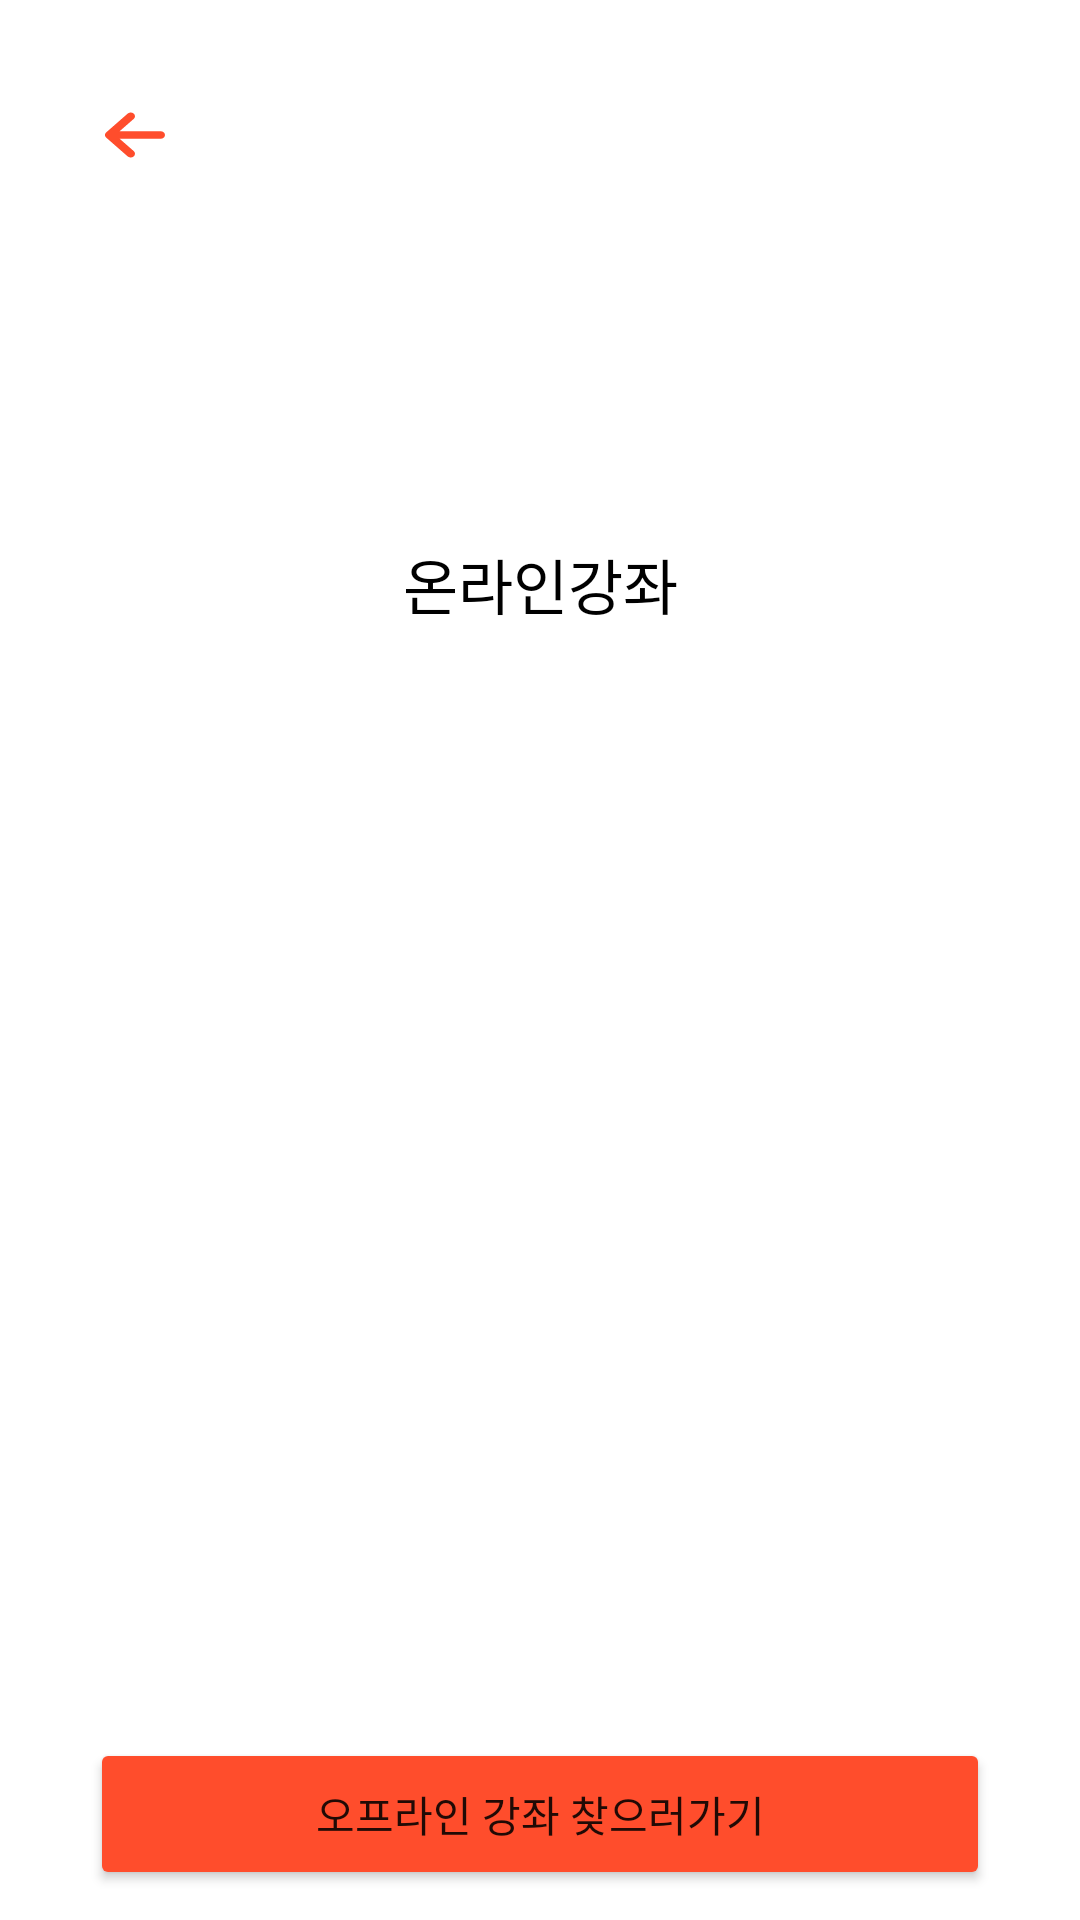

Icon bounding boxes for this 1080x1920 phone screenshot, format (x1, y1, x2, y2):
back key: (105, 112, 165, 158)
